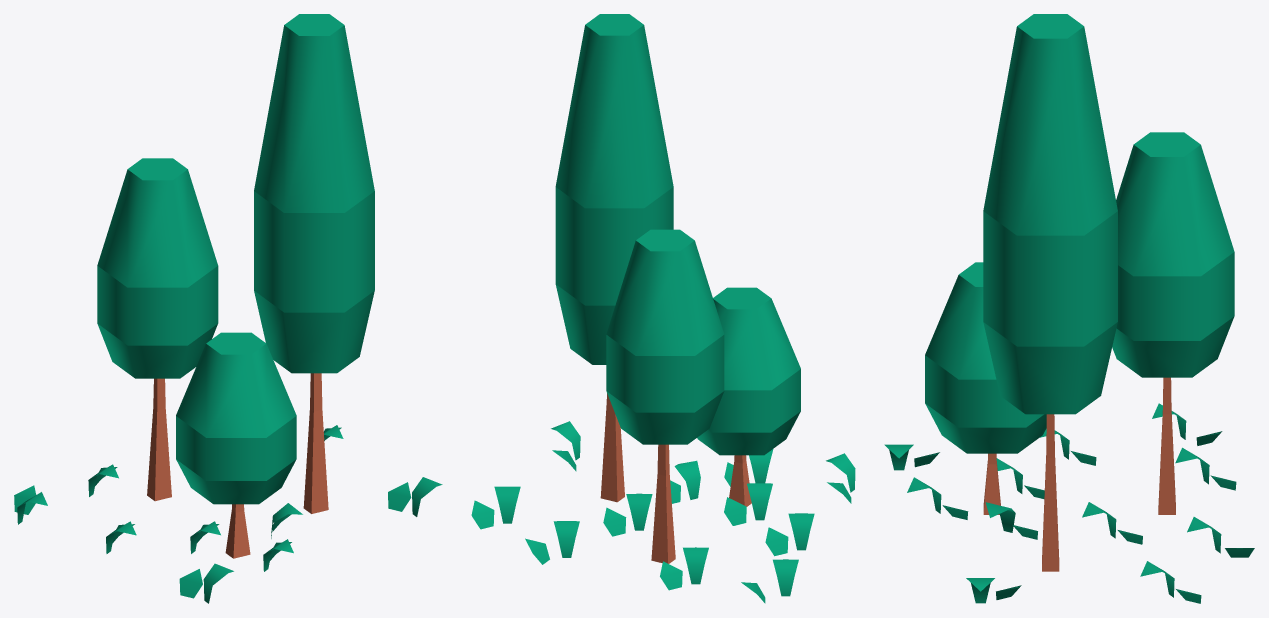
The model's file is Nature.fbx.
3 renders of one model, left to right at view 1: azimuth 30°, elevation 25°; view 2: azimuth 150°, elevation 25°; view 3: azimuth 270°, elevation 25°, orthographic. The views are drawn at different scales.
Parts seen in each view (by area): view 1: leafs_cone (×3), tree_branchLong (×3); view 2: leafs_cone (×3), plant_largeLeaf (×8), tree_branchLong (×3); view 3: leafs_cone (×3), tree_branchLong (×3), plant_largeLeaf.
Part boxes in pixels (bbox=[...]): leafs_cone (×3): bbox=[97, 14, 374, 504]; tree_branchLong (×3): bbox=[147, 373, 328, 558]; leafs_cone (×3): bbox=[555, 14, 800, 455]; plant_largeLeaf (×8): bbox=[494, 460, 814, 596]; tree_branchLong (×3): bbox=[600, 393, 751, 563]; leafs_cone (×3): bbox=[925, 14, 1234, 453]; tree_branchLong (×3): bbox=[983, 377, 1175, 571]; plant_largeLeaf: bbox=[985, 502, 1015, 532].
Bounding box in the file's own units: 37.25 × 51.06 × 31.79.
